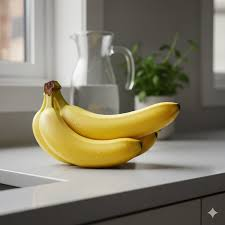banana: (32, 77, 181, 170)
